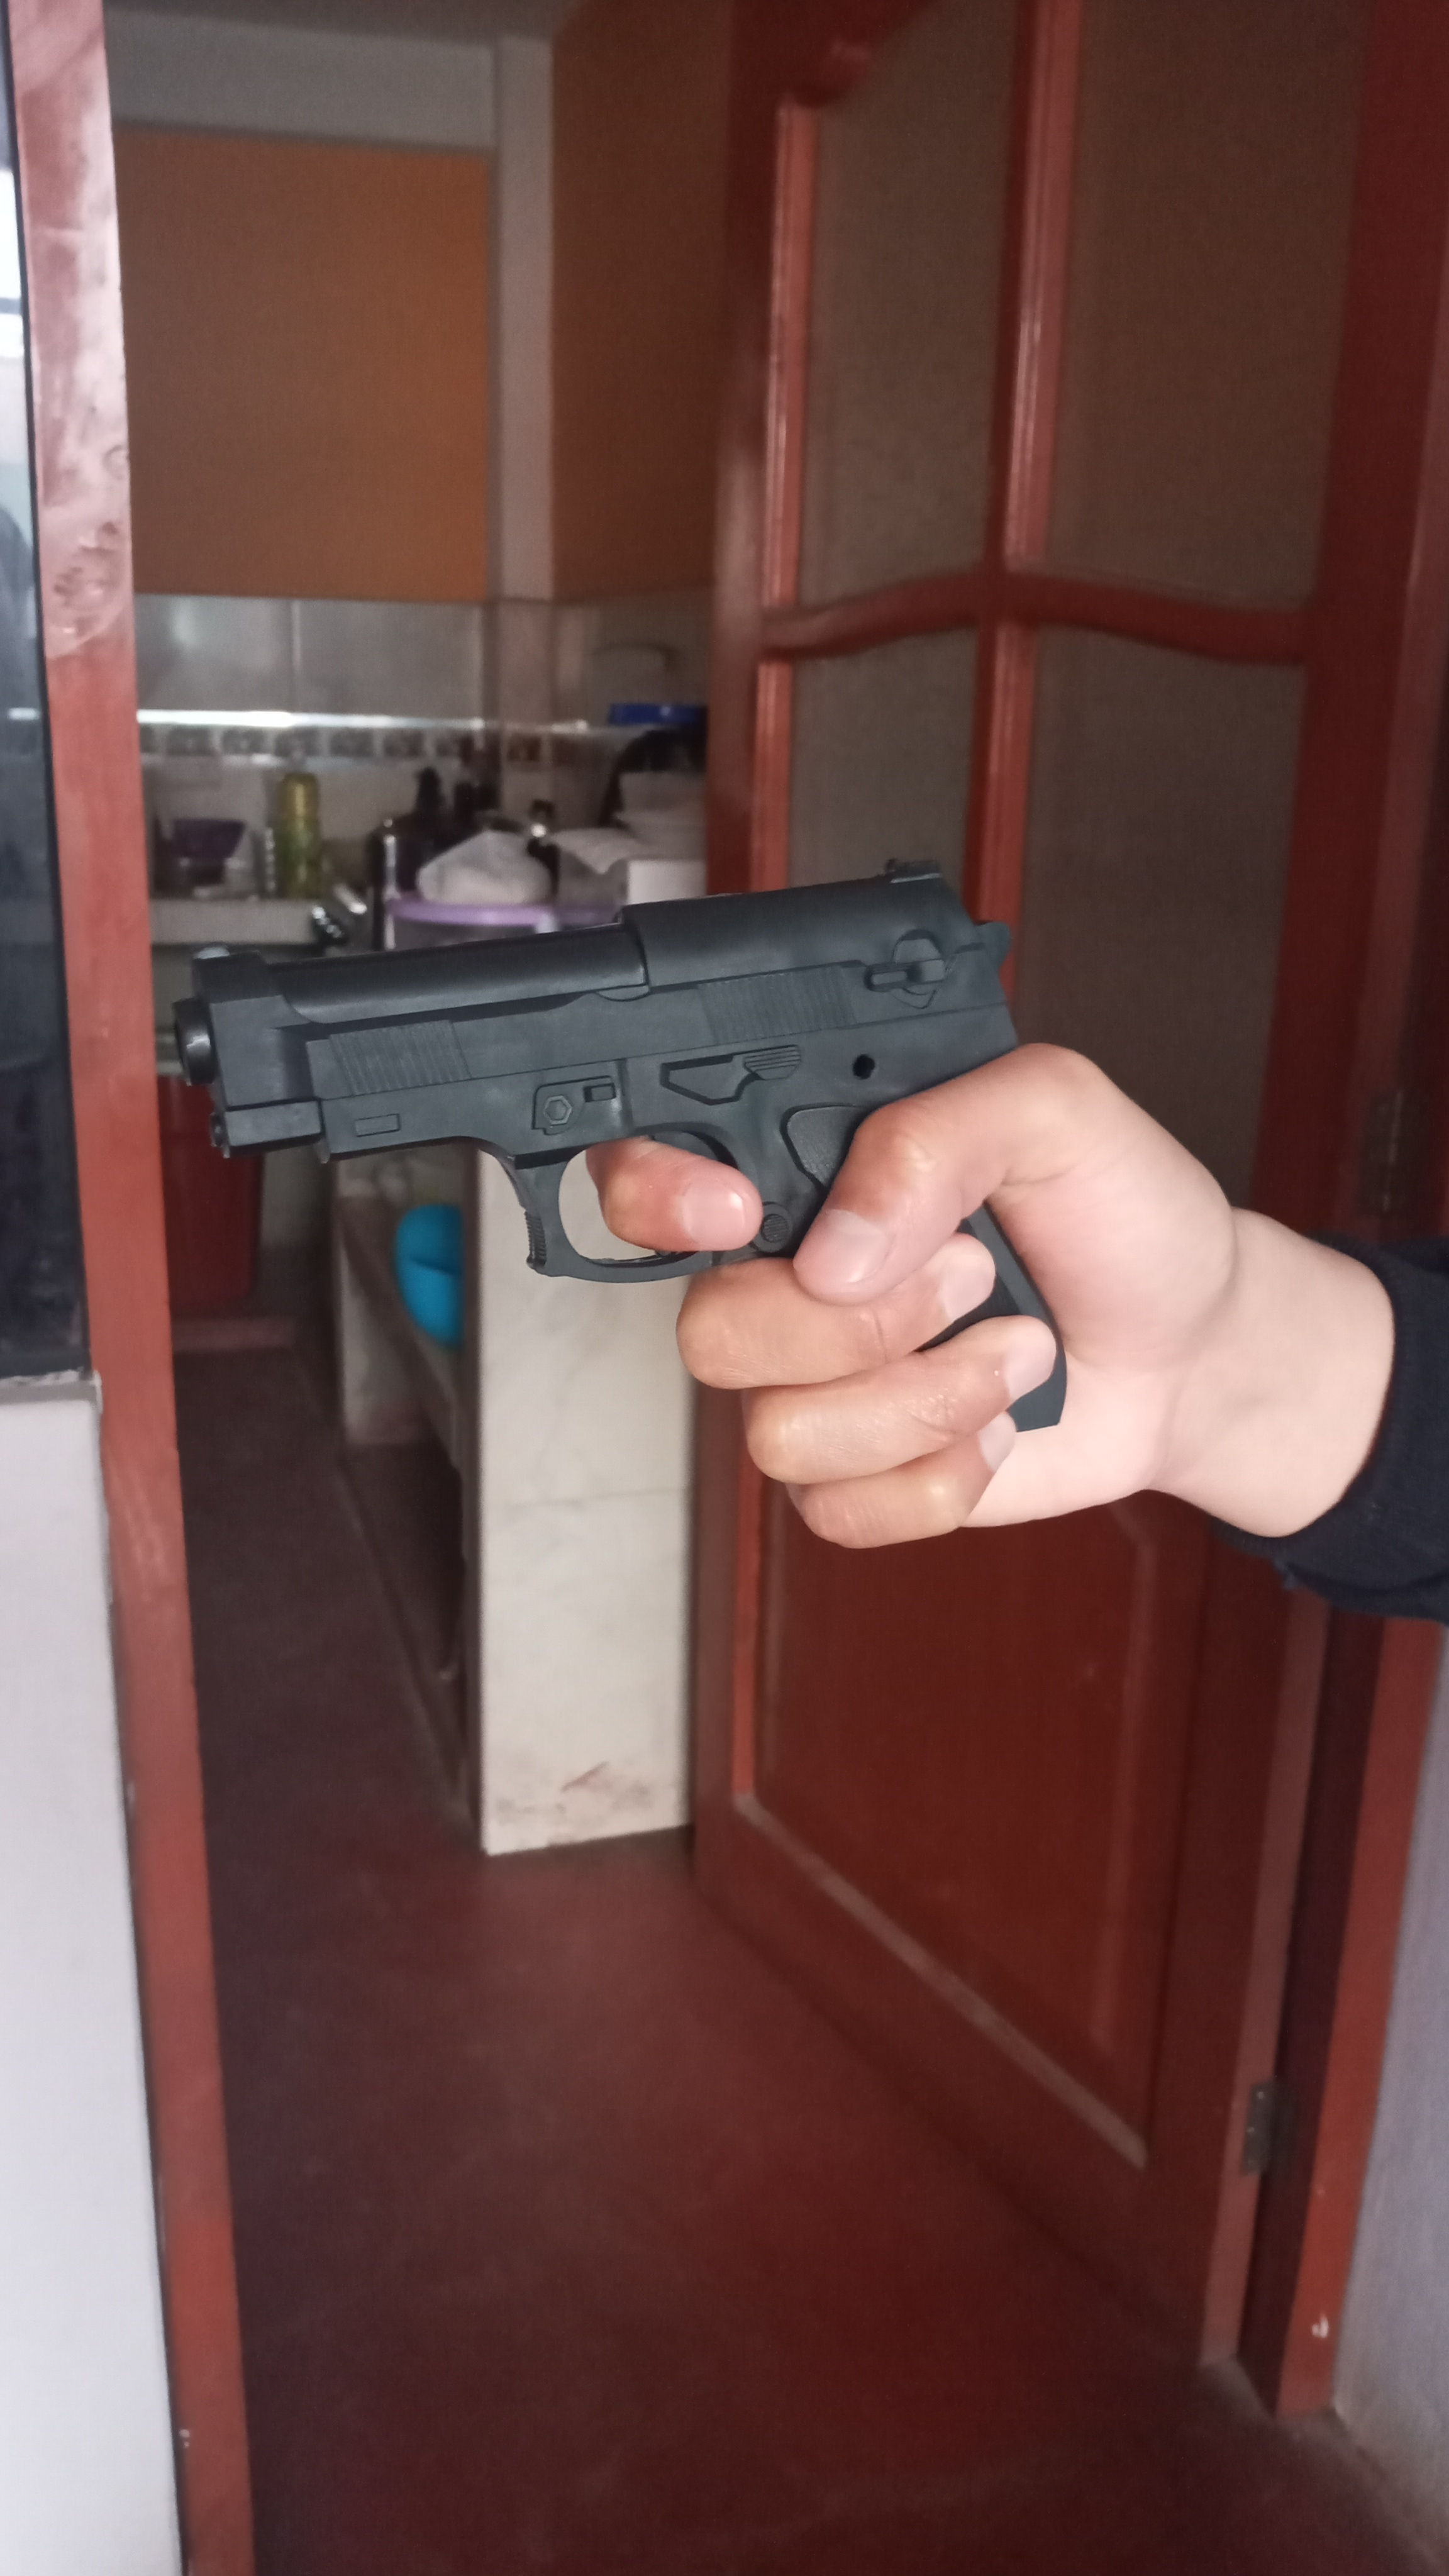Arma: (172, 863, 1040, 1201)
